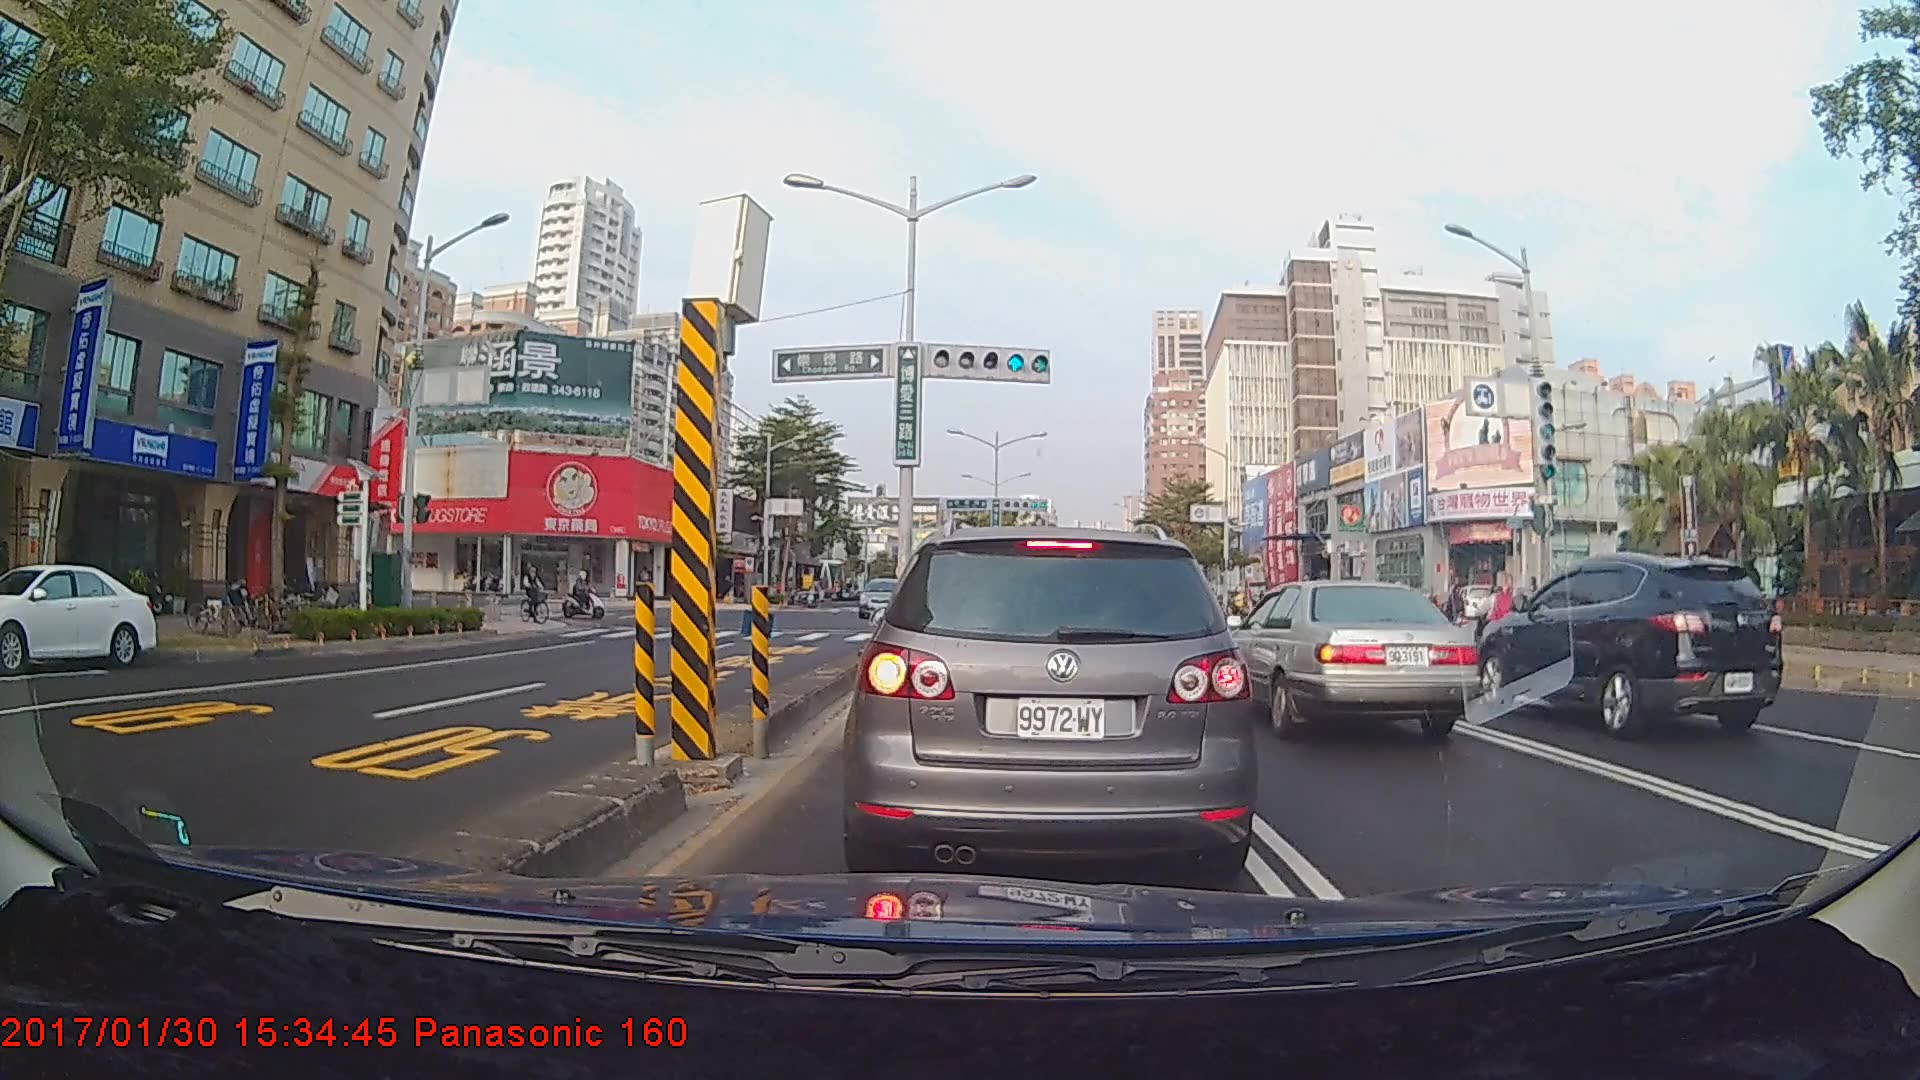rider: (518, 559, 561, 629), (564, 568, 615, 625)
vehicle: (852, 524, 1250, 880), (1477, 549, 1787, 734), (1208, 575, 1482, 742), (0, 561, 162, 671), (857, 576, 912, 618)
